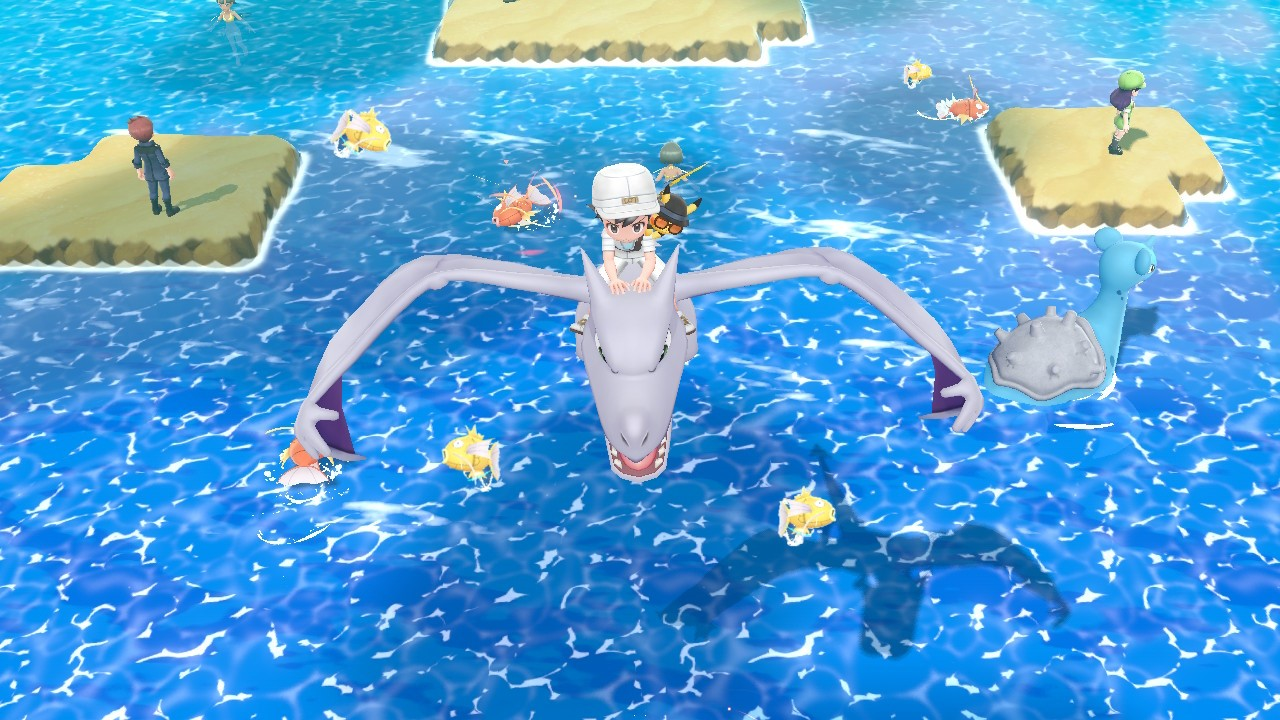Golden: (778, 484, 838, 546), (440, 428, 506, 484), (332, 105, 393, 159), (901, 57, 933, 89)
